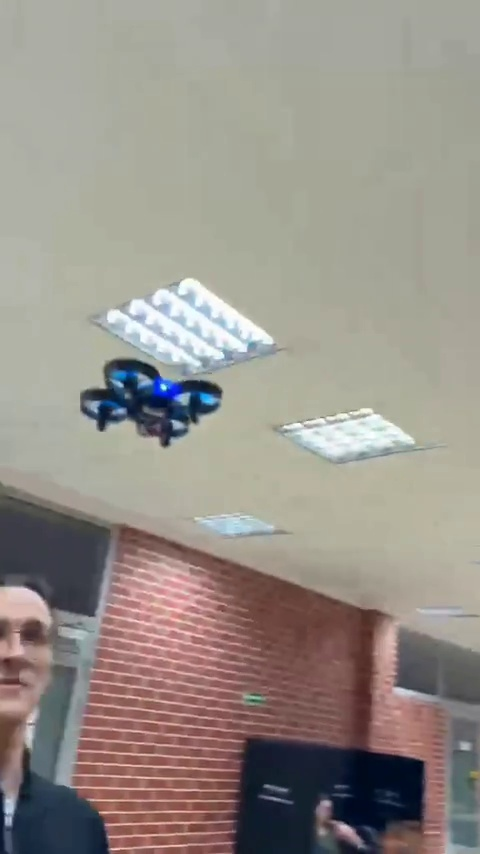drone: (74, 354, 223, 440)
